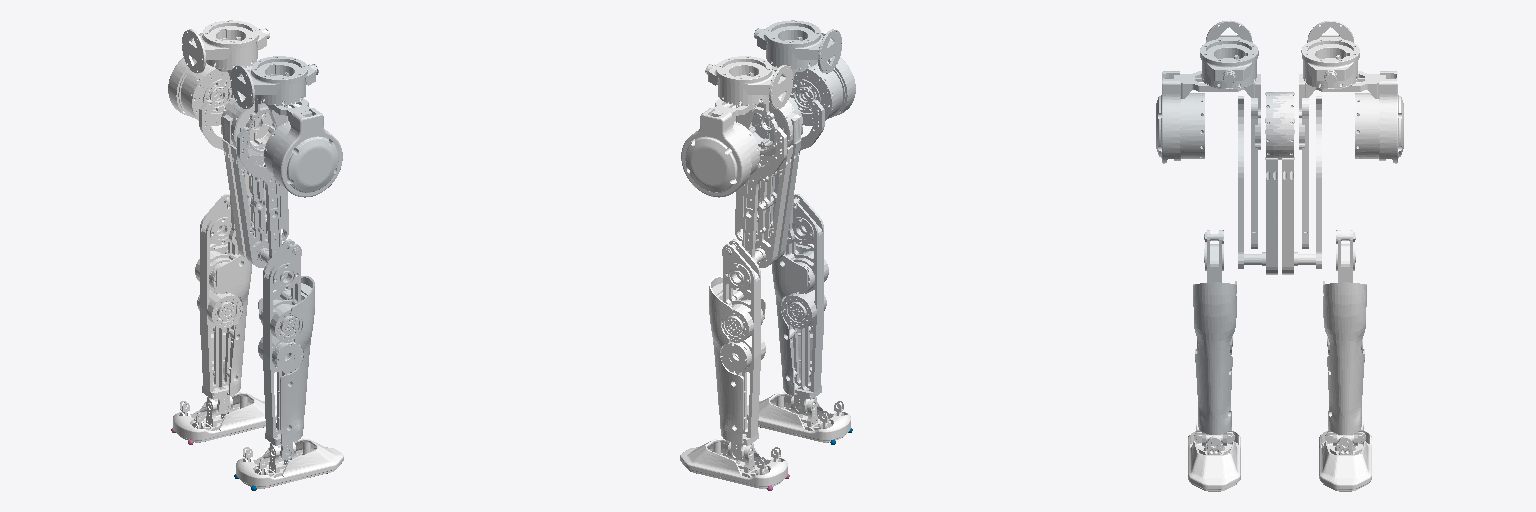
The robot description file, URDF, robot "biped_s4":
<?xml version="1.0" encoding="utf-8"?>
<!-- This URDF was automatically created by SolidWorks to URDF Exporter! Originally created by [author] ([email redacted]) 
     Commit Version: 1.6.0-4-g7f85cfe  Build Version: 1.6.7995.38578
     For more information, please see http://wiki.ros.org/sw_urdf_exporter -->
<robot
  name="biped_s4">
  <link
    name="torso">
    <inertial>
      <origin
        xyz="-0.0131642143292668 -0.00101855461920045 0.120968817067497"
        rpy="0 0 0" />
      <mass
        value="26.62066" />
      <inertia
        ixx="0.109513413578877"
        ixy="-3.84263402967609E-06"
        ixz="0.002072229236261"
        iyy="0.0639718644540955"
        iyz="5.94596039793819E-06"
        izz="0.0796086142464887" />
    </inertial>
    <visual>
      <origin
        xyz="0 0 0"
        rpy="0 0 0" />
      <geometry>
        <mesh
          filename="../meshes/torso.obj" />
      </geometry>
      <material
        name="">
        <color
          rgba="1 1 1 1" />
      </material>
    </visual>
    <!-- <collision>
      <origin
        xyz="0 0 0"
        rpy="0 0 0" />
      <geometry>
        <mesh
          filename="../meshes/torso.obj" />
      </geometry>
    </collision> -->
  </link>  
  <link
    name="l_leg_roll">
    <inertial>
      <origin
        xyz="-0.0111795086275655 -0.000123216790510347 -0.00147074190276801"
        rpy="0 0 0" />
      <mass
        value="0.56064" />
      <inertia
        ixx="0.000304743319113934"
        ixy="2.41328374541978E-09"
        ixz="-1.61296145176274E-05"
        iyy="0.000772105186246157"
        iyz="3.0907410093387E-07"
        izz="0.000961637403412868" />
    </inertial>
    <visual>
      <origin
        xyz="0 0 0"
        rpy="0 0 0" />
      <geometry>
        <mesh
          filename="../meshes/l_leg_roll.obj" />
      </geometry>
      <material
        name="">
        <color
          rgba="1 1 1 1" />
      </material>
    </visual>
    <!-- <collision>
      <origin
        xyz="0 0 0"
        rpy="0 0 0" />
      <geometry>
        <mesh
          filename="../meshes/l_leg_roll.obj" />
      </geometry>
    </collision> -->
  </link>
  <joint
    name="l_leg_roll"
    type="continuous">
    <origin
      xyz="-0.00254758231249262 0.0869999999999998 -0.0660000000049238"
      rpy="0 0 0" />
    <parent
      link="torso" />
    <child
      link="l_leg_roll" />
    <axis
      xyz="1 0 0" />
  </joint>
  <transmission type="SimpleTransmission">
    <joint name="l_leg_roll" />
    <actuator name="l_leg_roll_motor" />
  </transmission>
  
  <link
    name="l_leg_yaw">
    <inertial>
      <origin
        xyz="-2.35778184911506E-05 0.0577682076207521 -0.10392916892987"
        rpy="0 0 0" />
      <mass
        value="1.4747" />
      <inertia
        ixx="0.00147762234552319"
        ixy="3.48522021395906E-07"
        ixz="-1.02364548668284E-06"
        iyy="0.00221142702466258"
        iyz="3.53567926230776E-05"
        izz="0.00129984253622388" />
    </inertial>
    <visual>
      <origin
        xyz="0 0 0"
        rpy="0 0 0" />
      <geometry>
        <mesh
          filename="../meshes/l_leg_yaw.obj" />
      </geometry>
      <material
        name="">
        <color
          rgba="1 1 1 1" />
      </material>
    </visual>
    <!-- <collision>
      <origin
        xyz="0 0 0"
        rpy="0 0 0" />
      <geometry>
        <mesh
          filename="../meshes/l_leg_yaw.obj" />
      </geometry>
    </collision> -->
  </link>
  <joint
    name="l_leg_yaw"
    type="continuous">
    <origin
      xyz="0 0 0"
      rpy="0 0 0" />
    <parent
      link="l_leg_roll" />
    <child
      link="l_leg_yaw" />
    <axis
      xyz="0 0 1" />
  </joint>
  <transmission type="SimpleTransmission">
    <joint name="l_leg_yaw" />
    <actuator name="l_leg_yaw_motor" />
  </transmission>
  
  <link
    name="l_leg_pitch">
    <inertial>
      <origin
        xyz="-0.00116946246395767 -0.0111797511086746 -0.100922218695529"
        rpy="0 0 0" />
      <mass
        value="3.2147" />
      <inertia
        ixx="0.00754206784620963"
        ixy="-6.36947831516095E-05"
        ixz="9.50196374296909E-05"
        iyy="0.0080254564240316"
        iyz="2.27150889792675E-05"
        izz="0.00365753546634271" />
    </inertial>
    <visual>
      <origin
        xyz="0 0 0"
        rpy="0 0 0" />
      <geometry>
        <mesh
          filename="../meshes/l_leg_pitch.obj" />
      </geometry>
      <material
        name="">
        <color
          rgba="1 1 1 1" />
      </material>
    </visual>
    <!-- <collision>
      <origin
        xyz="0 0 0"
        rpy="0 0 0" />
      <geometry>
        <mesh
          filename="../meshes/l_leg_pitch.obj" />
      </geometry>
    </collision> -->
  </link>
  <joint
    name="l_leg_pitch"
    type="continuous">
    <origin
      xyz="0 0.025450000000002 -0.123449999999999"
      rpy="0 0 0" />
    <parent
      link="l_leg_yaw" />
    <child
      link="l_leg_pitch" />
    <axis
      xyz="0 1 0" />
  </joint>
  <transmission type="SimpleTransmission">
    <joint name="l_leg_pitch" />
    <actuator name="l_leg_pitch_motor" />
  </transmission>
  
  <link
    name="l_knee">
    <inertial>
      <origin
        xyz="0.0083741600267864 -1.38260606949159E-05 -0.140326741872988"
        rpy="0 0 0" />
      <mass
        value="1.9" />
      <inertia
        ixx="0.0110280658461993"
        ixy="1.81936202585807E-05"
        ixz="-0.000324492332926834"
        iyy="0.0112829957777815"
        iyz="8.89496046204543E-05"
        izz="0.000857506229386697" />
    </inertial>
    <visual>
      <origin
        xyz="0 0 0"
        rpy="0 0 0" />
      <geometry>
        <mesh
          filename="../meshes/l_knee.obj" />
      </geometry>
      <material
        name="">
        <color
          rgba="1 1 1 1" />
      </material>
    </visual>
    <!-- <collision>
      <origin
        xyz="0 0 0"
        rpy="0 0 0" />
      <geometry>
        <mesh
          filename="../meshes/l_knee.obj" />
      </geometry>
    </collision> -->
  </link>
  <joint
    name="l_knee"
    type="continuous">
    <origin
      xyz="-0.010390161952608 0 -0.249783995753446"
      rpy="0 0 0" />
    <parent
      link="l_leg_pitch" />
    <child
      link="l_knee" />
    <axis
      xyz="0 1 0" />
  </joint>
  <transmission type="SimpleTransmission">
    <joint name="l_knee" />
    <actuator name="l_knee_motor" />
  </transmission>
  
  <link
    name="l_foot_pitch">
    <inertial>
      <origin
        xyz="-1.81202114396539E-07 1.81203019034015E-07 2.55351295663786E-15"
        rpy="0 0 0" />
      <mass
        value="0.042517" />
      <inertia
        ixx="5.13627197456046E-07"
        ixy="-2.23455328690084E-16"
        ixz="-2.99517054441959E-11"
        iyy="5.13627197456051E-07"
        iyz="-2.9487151330203E-11"
        izz="9.09837232073045E-07" />
    </inertial>
    <visual>
      <origin
        xyz="0 0 0"
        rpy="0 0 0" />
      <geometry>
        <mesh
          filename="../meshes/l_foot_pitch.obj" />
      </geometry>
      <material
        name="">
        <color
          rgba="1 1 1 1" />
      </material>
    </visual>
    <!-- <collision>
      <origin
        xyz="0 0 0"
        rpy="0 0 0" />
      <geometry>
        <mesh
          filename="../meshes/l_foot_pitch.obj" />
      </geometry>
    </collision> -->
  </link>
  <joint
    name="l_foot_pitch"
    type="continuous">
    <origin
      xyz="0 0 -0.346000000000004"
      rpy="0 0 0" />
    <parent
      link="l_knee" />
    <child
      link="l_foot_pitch" />
    <axis
      xyz="0 1 0" />
  </joint>
  <transmission type="SimpleTransmission">
    <joint name="l_foot_pitch_joint" />
    <actuator name="l_foot_pitch_motor" />
  </transmission>
  
  <link
    name="l_foot_roll">
    <inertial>
      <origin
        xyz="0.00986618796288023 -8.14594069974139E-06 -0.0323276518433993"
        rpy="0 0 0" />
      <mass
        value="0.59706" />
      <inertia
        ixx="0.000129574142247561"
        ixy="1.87464188807015E-08"
        ixz="3.66139740707971E-06"
        iyy="0.00031519475110699"
        iyz="3.6373667328501E-09"
        izz="0.000418024913490438" />
    </inertial>
    <visual>
      <origin
        xyz="0 0 0"
        rpy="0 0 0" />
      <geometry>
        <mesh
          filename="../meshes/l_foot_roll.obj" />
      </geometry>
      <material
        name="">
        <color
          rgba="1 1 1 1" />
      </material>
    </visual>
    <!-- <collision>
      <origin
        xyz="0 0 0"
        rpy="0 0 0" />
      <geometry>
        <mesh
          filename="../meshes/l_foot_roll.obj" />
      </geometry>
    </collision> -->

    <visual>
      <origin rpy="0 0 0" xyz="-0.075 0.03 -0.0465" />
      <geometry>
        <sphere radius="0.005" />
      </geometry>
    </visual>
    <collision>
      <origin rpy="0 0 0" xyz="-0.075 0.03 -0.0465" />
      <geometry>
        <sphere radius="0.005" />
      </geometry>
    </collision>
    <visual>
      <origin rpy="0 0 0" xyz="-0.075 -0.03 -0.0465" />
      <geometry>
        <sphere radius="0.005" />
      </geometry>
    </visual>
    <collision>
      <origin rpy="0 0 0" xyz="-0.075 -0.03 -0.0465" />
      <geometry>
        <sphere radius="0.005" />
      </geometry>
    </collision>

    <visual>
      <origin rpy="0 0 0" xyz="0.075 0.03 -0.0465" />
      <geometry>
        <sphere radius="0.005" />
      </geometry>
    </visual>
    <collision>
      <origin rpy="0 0 0" xyz="0.075 0.03 -0.0465" />
      <geometry>
        <sphere radius="0.005" />
      </geometry>
    </collision>
    <visual>
      <origin rpy="0 0 0" xyz="0.075 -0.03 -0.0465" />
      <geometry>
        <sphere radius="0.005" />
      </geometry>
    </visual>
    <collision>
      <origin rpy="0 0 0" xyz="0.075 -0.03 -0.0465" />
      <geometry>
        <sphere radius="0.005" />
      </geometry>
    </collision>
  </link>
  <joint
    name="l_foot_roll"
    type="continuous">
    <origin
      xyz="0 0 0"
      rpy="0 0 0" />
    <parent
      link="l_foot_pitch" />
    <child
      link="l_foot_roll" />
    <axis
      xyz="1 0 0" />
  </joint>
  <transmission type="SimpleTransmission">
    <joint name="l_foot_roll_joint" />
    <actuator name="l_foot_roll_motor" />
  </transmission>
  <frame link="l_foot_roll" name="l_foot_sole_frame" xyz="0 0.0 -0.0465" />
  <frame link="l_foot_roll" name="l_foot_toe_frame" xyz="0.075 0.0 -0.0465" />
  <frame link="l_foot_roll" name="l_foot_heel_frame" xyz="-0.075 0.0 -0.0465" />

  <link
    name="r_leg_roll">
    <inertial>
      <origin
        xyz="-0.0111795086275655 -0.00012321679051229 -0.00147074190276808"
        rpy="0 0 0" />
      <mass
        value="0.56065" />
      <inertia
        ixx="0.000304743319113934"
        ixy="2.41328374498631E-09"
        ixz="-1.61296145176275E-05"
        iyy="0.000772105186246157"
        iyz="3.09074100933868E-07"
        izz="0.000961637403412867" />
    </inertial>
    <visual>
      <origin
        xyz="0 0 0"
        rpy="0 0 0" />
      <geometry>
        <mesh
          filename="../meshes/r_leg_roll.obj" />
      </geometry>
      <material
        name="">
        <color
          rgba="0.898039215686275 0.917647058823529 0.929411764705882 1" />
      </material>
    </visual>
    <!-- <collision>
      <origin
        xyz="0 0 0"
        rpy="0 0 0" />
      <geometry>
        <mesh
          filename="../meshes/r_leg_roll.obj" />
      </geometry>
    </collision> -->
  </link>
  <joint
    name="r_leg_roll"
    type="continuous">
    <origin
      xyz="-0.00254758231249268 -0.0870000000000003 -0.0660000000049238"
      rpy="0 0 0" />
    <parent
      link="torso" />
    <child
      link="r_leg_roll" />
    <axis
      xyz="1 0 0" />
  </joint>
  <transmission type="SimpleTransmission">
    <joint name="r_leg_roll" />
    <actuator name="r_leg_roll_motor" />
  </transmission>
  
  <link
    name="r_leg_yaw">
    <inertial>
      <origin
        xyz="2.357781872672E-05 -0.0577682076211163 -0.103929168930567"
        rpy="0 0 0" />
      <mass
        value="1.47469906448792" />
      <inertia
        ixx="0.00147762234553187"
        ixy="3.48522018944965E-07"
        ixz="1.02364547910872E-06"
        iyy="0.00221142702467772"
        iyz="-3.53567926256051E-05"
        izz="0.0012998425362321" />
    </inertial>
    <visual>
      <origin
        xyz="0 0 0"
        rpy="0 0 0" />
      <geometry>
        <mesh
          filename="../meshes/r_leg_yaw.obj" />
      </geometry>
      <material
        name="">
        <color
          rgba="0.898039215686275 0.917647058823529 0.929411764705882 1" />
      </material>
    </visual>
    <!-- <collision>
      <origin
        xyz="0 0 0"
        rpy="0 0 0" />
      <geometry>
        <mesh
          filename="../meshes/r_leg_yaw.obj" />
      </geometry>
    </collision> -->
  </link>
  <joint
    name="r_leg_yaw"
    type="continuous">
    <origin
      xyz="0 0 0"
      rpy="0 0 0" />
    <parent
      link="r_leg_roll" />
    <child
      link="r_leg_yaw" />
    <axis
      xyz="0 0 1" />
  </joint>
  <transmission type="SimpleTransmission">
    <joint name="r_leg_yaw" />
    <actuator name="r_leg_yaw_motor" />
  </transmission>
  
  <link
    name="r_leg_pitch">
    <inertial>
      <origin
        xyz="-0.00107074781786857 0.0113653015494495 -0.100928316961028"
        rpy="0 0 0" />
      <mass
        value="3.21468475853988" />
      <inertia
        ixx="0.00754810936808965"
        ixy="6.16442740988069E-05"
        ixz="9.78194176173465E-05"
        iyy="0.00803347926141846"
        iyz="-1.93677766573902E-05"
        izz="0.00366288112623837" />
    </inertial>
    <visual>
      <origin
        xyz="0 0 0"
        rpy="0 0 0" />
      <geometry>
        <mesh
          filename="../meshes/r_leg_pitch.obj" />
      </geometry>
      <material
        name="">
        <color
          rgba="0.898039215686275 0.917647058823529 0.929411764705882 1" />
      </material>
    </visual>
    <!-- <collision>
      <origin
        xyz="0 0 0"
        rpy="0 0 0" />
      <geometry>
        <mesh
          filename="../meshes/r_leg_pitch.obj" />
      </geometry>
    </collision> -->
  </link>
  <joint
    name="r_leg_pitch"
    type="continuous">
    <origin
      xyz="0 -0.0254500000000034 -0.123449999999998"
      rpy="0 0 0" />
    <parent
      link="r_leg_yaw" />
    <child
      link="r_leg_pitch" />
    <axis
      xyz="0 1 0" />
  </joint>
  <transmission type="SimpleTransmission">
    <joint name="r_leg_pitch" />
    <actuator name="r_leg_pitch_motor" />
  </transmission>
  
  <link
    name="r_knee">
    <inertial>
      <origin
        xyz="0.00837373211182327 1.48731646985867E-05 -0.140326343912049"
        rpy="0 0 0" />
      <mass
        value="1.9" />
      <inertia
        ixx="0.0110283914420998"
        ixy="-1.8192089906164E-05"
        ixz="-0.000324488080960638"
        iyy="0.0112832978117942"
        iyz="-8.89800157972667E-05"
        izz="0.000857552225943839" />
    </inertial>
    <visual>
      <origin
        xyz="0 0 0"
        rpy="0 0 0" />
      <geometry>
        <mesh
          filename="../meshes/r_knee.obj" />
      </geometry>
      <material
        name="">
        <color
          rgba="0.898039215686275 0.917647058823529 0.929411764705882 1" />
      </material>
    </visual>
    <!-- <collision>
      <origin
        xyz="0 0 0"
        rpy="0 0 0" />
      <geometry>
        <mesh
          filename="../meshes/r_knee.obj" />
      </geometry>
    </collision> -->
  </link>
  <joint
    name="r_knee"
    type="continuous">
    <origin
      xyz="-0.0103901619526017 0 -0.249783995753447"
      rpy="0 0 0" />
    <parent
      link="r_leg_pitch" />
    <child
      link="r_knee" />
    <axis
      xyz="0 1 0" />
  </joint>
  <transmission type="SimpleTransmission">
    <joint name="r_knee" />
    <actuator name="r_knee_motor" />
  </transmission>
  
  <link
    name="r_foot_pitch">
    <inertial>
      <origin
        xyz="-1.81202915693068E-07 -1.8120290991297E-07 -1.11022302462516E-16"
        rpy="0 0 0" />
      <mass
        value="0.0425174918720247" />
      <inertia
        ixx="5.1362719745605E-07"
        ixy="2.23455634819957E-16"
        ixz="2.94871513298561E-11"
        iyy="5.13627197456048E-07"
        iyz="-2.99517054444867E-11"
        izz="9.09837232073047E-07" />
    </inertial>
    <visual>
      <origin
        xyz="0 0 0"
        rpy="0 0 0" />
      <geometry>
        <mesh
          filename="../meshes/r_foot_pitch.obj" />
      </geometry>
      <material
        name="">
        <color
          rgba="1 1 1 1" />
      </material>
    </visual>
    <!-- <collision>
      <origin
        xyz="0 0 0"
        rpy="0 0 0" />
      <geometry>
        <mesh
          filename="../meshes/r_foot_pitch.obj" />
      </geometry>
    </collision> -->
  </link>
  <joint
    name="r_foot_pitch"
    type="continuous">
    <origin
      xyz="0 0 -0.346000000000011"
      rpy="0 0 0" />
    <parent
      link="r_knee" />
    <child
      link="r_foot_pitch" />
    <axis
      xyz="0 1 0" />
  </joint>
  <transmission type="SimpleTransmission">
    <joint name="r_foot_pitch" />
    <actuator name="r_foot_pitch_motor" />
  </transmission>
  
  <link
    name="r_foot_roll">
    <inertial>
      <origin
        xyz="0.00986618796136205 -8.14593967402022E-06 -0.0323276518432604"
        rpy="0 0 0" />
      <mass
        value="0.597055643310439" />
      <inertia
        ixx="0.000129574142254521"
        ixy="1.87464121722709E-08"
        ixz="3.66139740707072E-06"
        iyy="0.000315194751113542"
        iyz="3.63736673340889E-09"
        izz="0.000418024913503948" />
    </inertial>
    <visual>
      <origin
        xyz="0 0 0"
        rpy="0 0 0" />
      <geometry>
        <mesh
          filename="../meshes/r_foot_roll.obj" />
      </geometry>
      <material
        name="">
        <color
          rgba="1 1 1 1" />
      </material>
    </visual>
    <!-- <collision>
      <origin
        xyz="0 0 0"
        rpy="0 0 0" />
      <geometry>
        <mesh
          filename="../meshes/r_foot_roll.obj" />
      </geometry>
    </collision> -->
    <visual>
      <origin rpy="0 0 0" xyz="-0.075 0.03 -0.0465" />
      <geometry>
        <sphere radius="0.005" />
      </geometry>
    </visual>
    <collision>
      <origin rpy="0 0 0" xyz="-0.075 0.03 -0.0465" />
      <geometry>
        <sphere radius="0.005" />
      </geometry>
    </collision>
    <visual>
      <origin rpy="0 0 0" xyz="-0.075 -0.03 -0.0465" />
      <geometry>
        <sphere radius="0.005" />
      </geometry>
    </visual>
    <collision>
      <origin rpy="0 0 0" xyz="-0.075 -0.03 -0.0465" />
      <geometry>
        <sphere radius="0.005" />
      </geometry>
    </collision>

    <visual>
      <origin rpy="0 0 0" xyz="0.075 0.03 -0.0465" />
      <geometry>
        <sphere radius="0.005" />
      </geometry>
    </visual>
    <collision>
      <origin rpy="0 0 0" xyz="0.075 0.03 -0.0465" />
      <geometry>
        <sphere radius="0.005" />
      </geometry>
    </collision>
    <visual>
      <origin rpy="0 0 0" xyz="0.075 -0.03 -0.0465" />
      <geometry>
        <sphere radius="0.005" />
      </geometry>
    </visual>
    <collision>
      <origin rpy="0 0 0" xyz="0.075 -0.03 -0.0465" />
      <geometry>
        <sphere radius="0.005" />
      </geometry>
    </collision>
  </link>
  <joint
    name="r_foot_roll"
    type="continuous">
    <origin
      xyz="0 0 0"
      rpy="0 0 0" />
    <parent
      link="r_foot_pitch" />
    <child
      link="r_foot_roll" />
    <axis
      xyz="1 0 0" />
  </joint>
  <transmission type="SimpleTransmission">
    <joint name="r_foot_roll_joint" />
    <actuator name="r_foot_roll_motor" />
  </transmission>
  <frame link="r_foot_roll" name="r_foot_sole_frame" xyz="0 -0.0 -0.0465" />
  <frame link="r_foot_roll" name="r_foot_toe_frame" xyz="0.075 -0.0 -0.0465" />
  <frame link="r_foot_roll" name="r_foot_heel_frame" xyz="-0.075 -0.0 -0.0465" />
  
</robot>

--- Facts derived from the render (not from the file) ---
Views: 3 orthographic renders of the robot side by side, from view 1: azimuth 30°, elevation 25°; view 2: azimuth 150°, elevation 25°; view 3: azimuth 270°, elevation 25°.
Model biped_s4 with 13 links and 12 joints (12 continuous), rooted at torso, posed every joint at zero.
Visible links, largest first — view 1: r_knee, l_knee, r_leg_yaw, r_leg_pitch, r_leg_roll, l_leg_roll, r_foot_roll, l_leg_pitch, l_foot_roll, l_leg_yaw; view 2: l_knee, r_knee, l_leg_yaw, l_leg_pitch, l_leg_roll, r_leg_roll, l_foot_roll, r_leg_pitch, r_foot_roll, r_leg_yaw; view 3: l_knee, r_knee, l_leg_pitch, l_leg_yaw, r_leg_yaw, r_leg_pitch, r_leg_roll, l_leg_roll, r_foot_roll, l_foot_roll.
Boxes of the visible links, x1,y1,x2,y2 form: r_knee: [258, 239, 314, 460]; l_knee: [195, 194, 251, 413]; r_leg_yaw: [246, 99, 342, 197]; r_leg_pitch: [223, 100, 288, 267]; r_leg_roll: [230, 56, 318, 108]; l_leg_roll: [182, 20, 269, 73]; r_foot_roll: [234, 438, 343, 490]; l_leg_pitch: [199, 94, 287, 259]; l_foot_roll: [171, 392, 276, 444]; l_leg_yaw: [168, 33, 259, 127]; l_knee: [709, 239, 765, 460]; r_knee: [772, 194, 828, 413]; l_leg_yaw: [681, 99, 777, 197]; l_leg_pitch: [735, 97, 800, 267]; l_leg_roll: [705, 56, 793, 108]; r_leg_roll: [754, 20, 841, 73]; l_foot_roll: [680, 438, 789, 490]; r_leg_pitch: [736, 94, 824, 259]; r_foot_roll: [747, 392, 852, 444]; r_leg_yaw: [764, 33, 855, 127]; l_knee: [1323, 230, 1366, 445]; r_knee: [1193, 230, 1236, 445]; l_leg_pitch: [1267, 92, 1321, 274]; l_leg_yaw: [1299, 71, 1403, 163]; r_leg_yaw: [1156, 71, 1260, 163]; r_leg_pitch: [1238, 92, 1292, 274]; r_leg_roll: [1200, 20, 1258, 89]; l_leg_roll: [1301, 21, 1359, 88]; r_foot_roll: [1188, 421, 1240, 491]; l_foot_roll: [1319, 421, 1371, 491].
Bounding box of the posed robot: 0.204 × 0.4247 × 0.8107 m (x, y, z).
Meshes: 13 distinct files referenced, 12 mesh visuals loaded (12 OBJ); not drawn: 1 (reference not matched to a file when rendering).